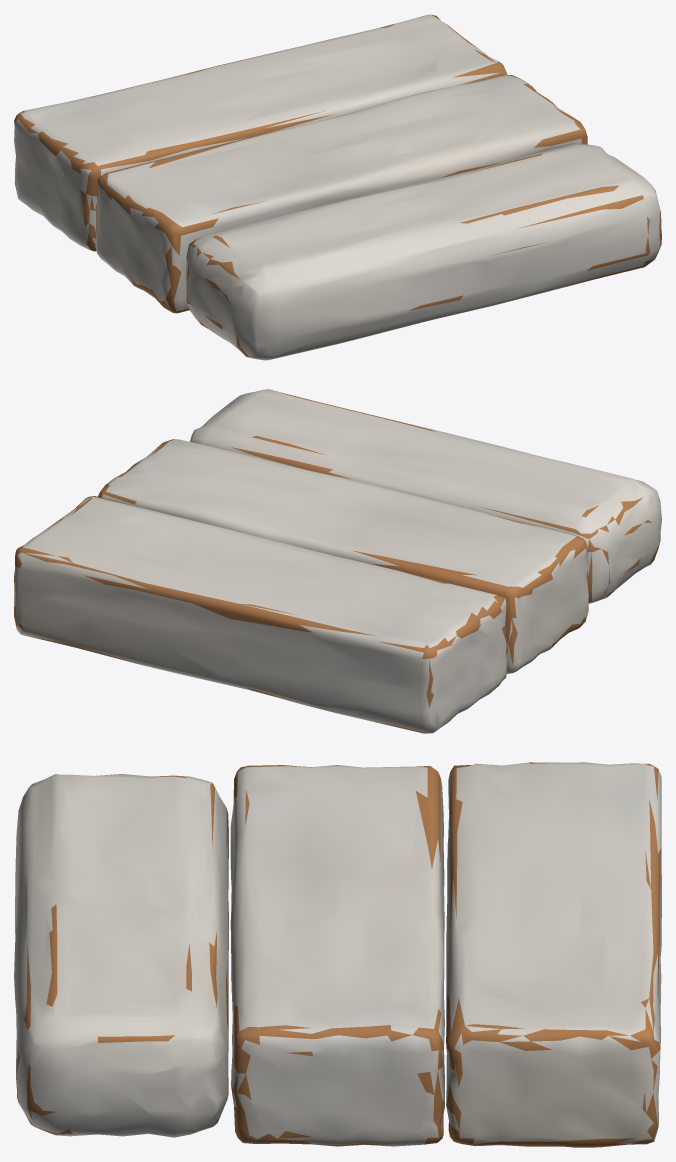
File: frost_sill_ledge_b.glb
The picture shows the model from 3 angles, top to bottom: view 1: azimuth 30°, elevation 25°; view 2: azimuth 150°, elevation 25°; view 3: azimuth 270°, elevation 25°; orthographic projection. The views are drawn at different scales.
Visible parts, largest first — view 1: frost_sill_ledge_b; view 2: frost_sill_ledge_b; view 3: frost_sill_ledge_b.
Boxes of the visible parts, <box> form: frost_sill_ledge_b: <box>14,14,661,360</box>; frost_sill_ledge_b: <box>14,389,661,733</box>; frost_sill_ledge_b: <box>14,762,661,1147</box>.
Bounding box in the file's own units: 20.14 × 4.2 × 20.
